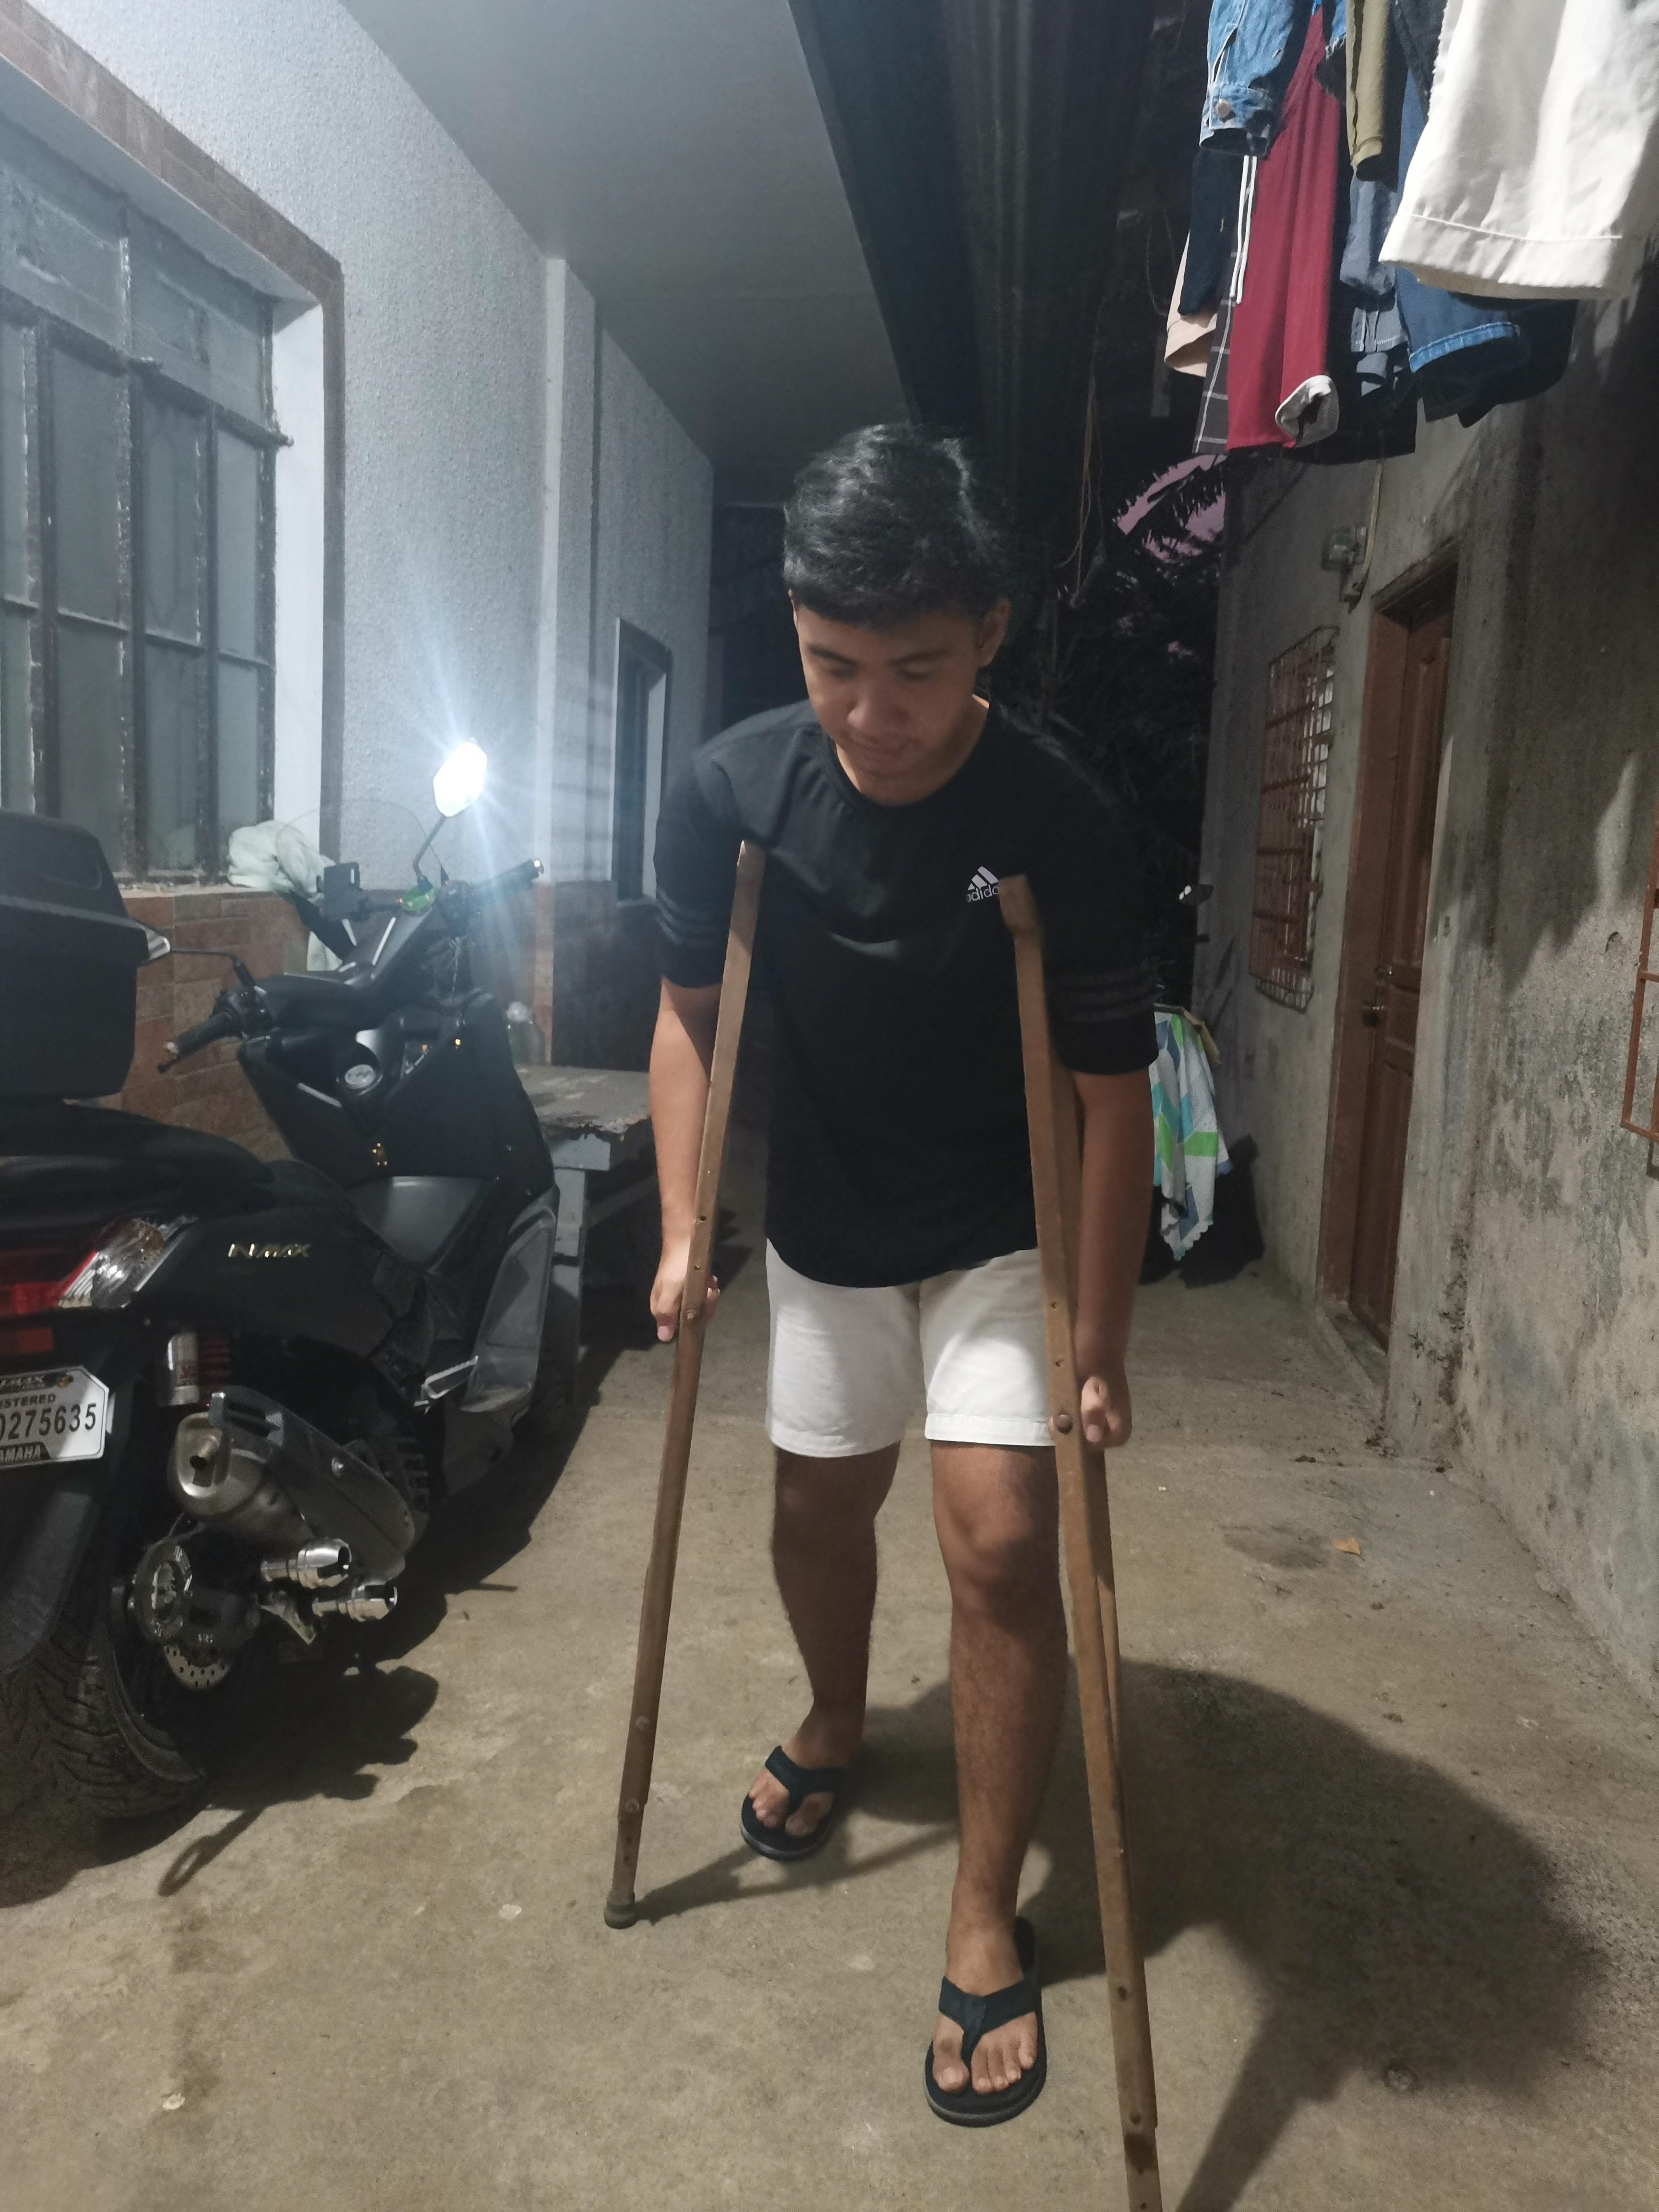crutches: (606, 428, 1164, 2212)
